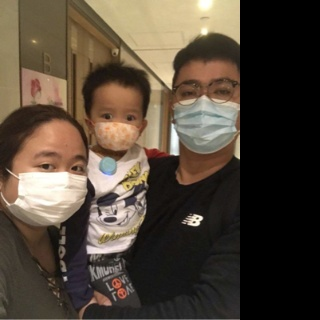with_mask: (4, 148, 88, 229), (172, 75, 240, 156), (92, 104, 144, 153)
